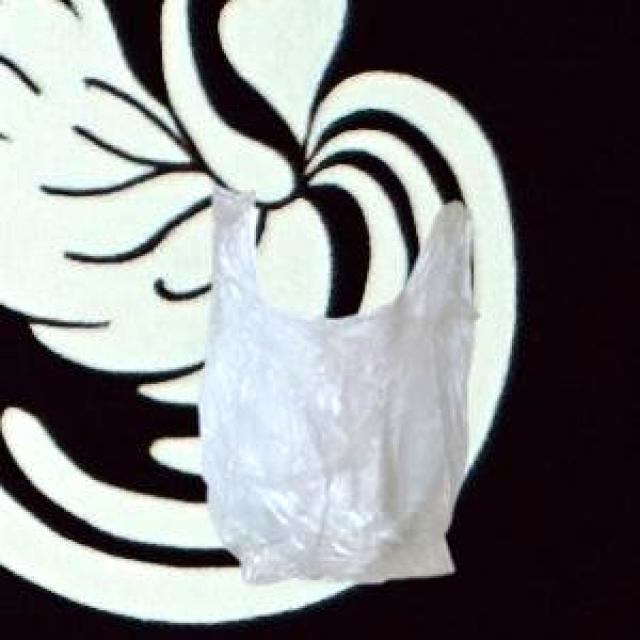Plastic_Bag: (195, 184, 477, 582)
